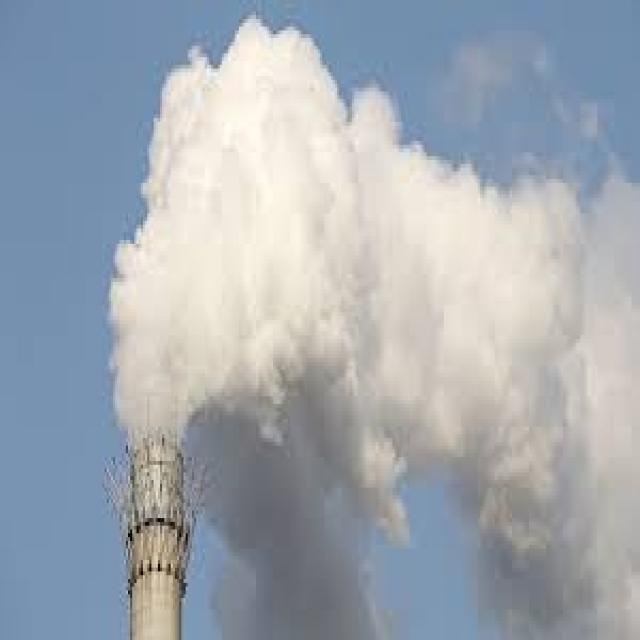Smoke: (102, 11, 640, 640)
